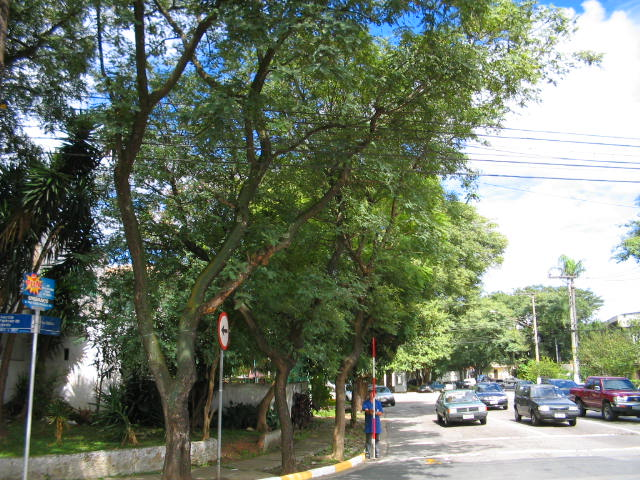stem: (142, 392, 212, 480), (265, 385, 302, 474), (320, 375, 357, 464)
stick: (365, 337, 381, 460)
